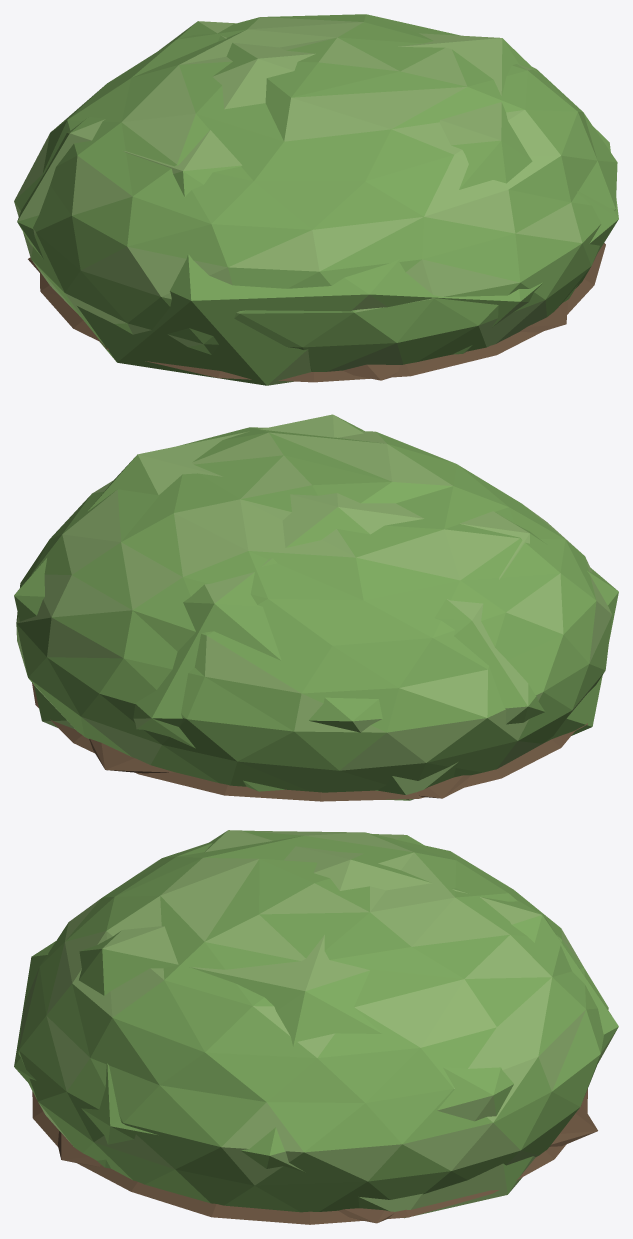
The model's file is pf_moss.glb.
3 renders of one model, top to bottom at view 1: azimuth 30°, elevation 25°; view 2: azimuth 150°, elevation 25°; view 3: azimuth 270°, elevation 25°, orthographic. The views are drawn at different scales.
Parts seen in each view (by area): view 1: body_nl, body__far; view 2: body_nl, body__far; view 3: body_nl, body__far.
Part boxes in pixels (x1,y1,x2,y2): body_nl: [14, 14, 617, 382]; body__far: [17, 21, 618, 385]; body_nl: [16, 427, 611, 801]; body__far: [14, 414, 618, 800]; body_nl: [18, 830, 608, 1224]; body__far: [14, 830, 618, 1223].
Bounding box in the file's own units: 0.8836 × 0.3418 × 0.8403.
